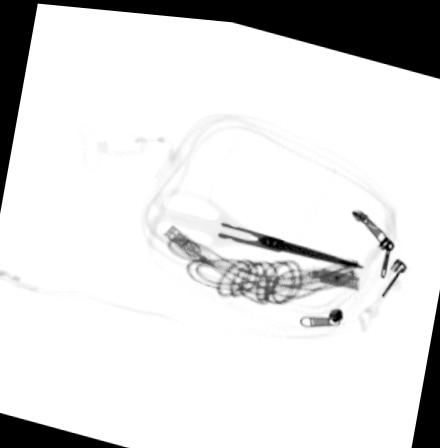Scissors: (147, 183, 363, 258)
